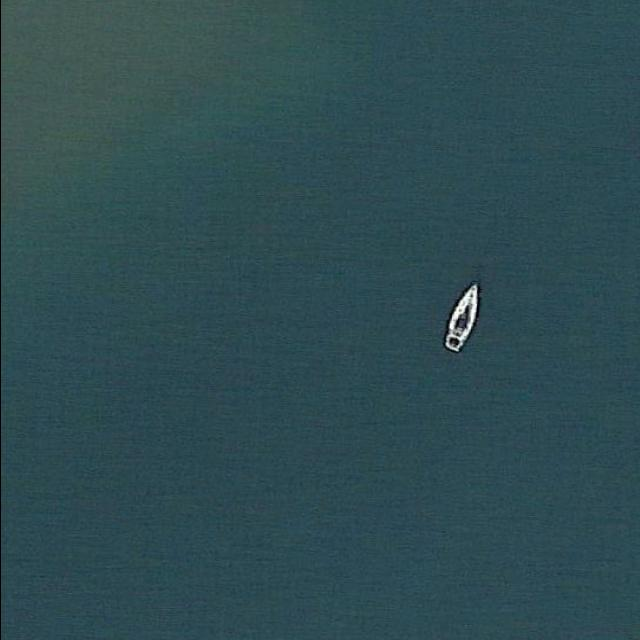ship: (442, 282, 480, 352)
